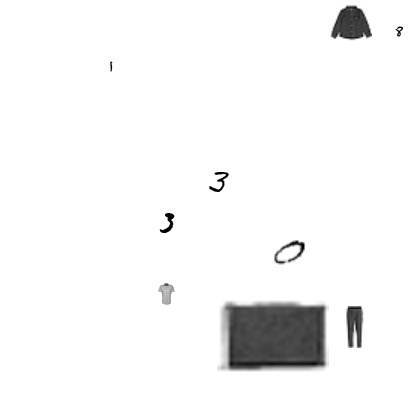0: (270, 230, 312, 272)
1: (104, 59, 118, 73)
3: (205, 167, 233, 195), (154, 208, 182, 236)
8: (392, 24, 406, 38)
Bag: (217, 278, 329, 390)
Shirt: (330, 1, 372, 43), (155, 283, 177, 305)
Trouser: (333, 306, 375, 348)
